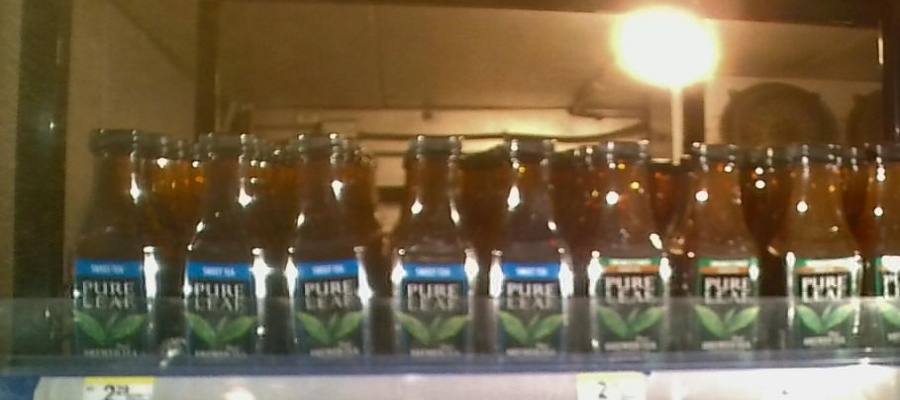bottle: (173, 127, 276, 369), (280, 127, 382, 371), (69, 129, 168, 369), (389, 124, 481, 373), (484, 129, 580, 365), (586, 128, 679, 365), (768, 134, 860, 356), (683, 134, 764, 365), (864, 142, 900, 351)
